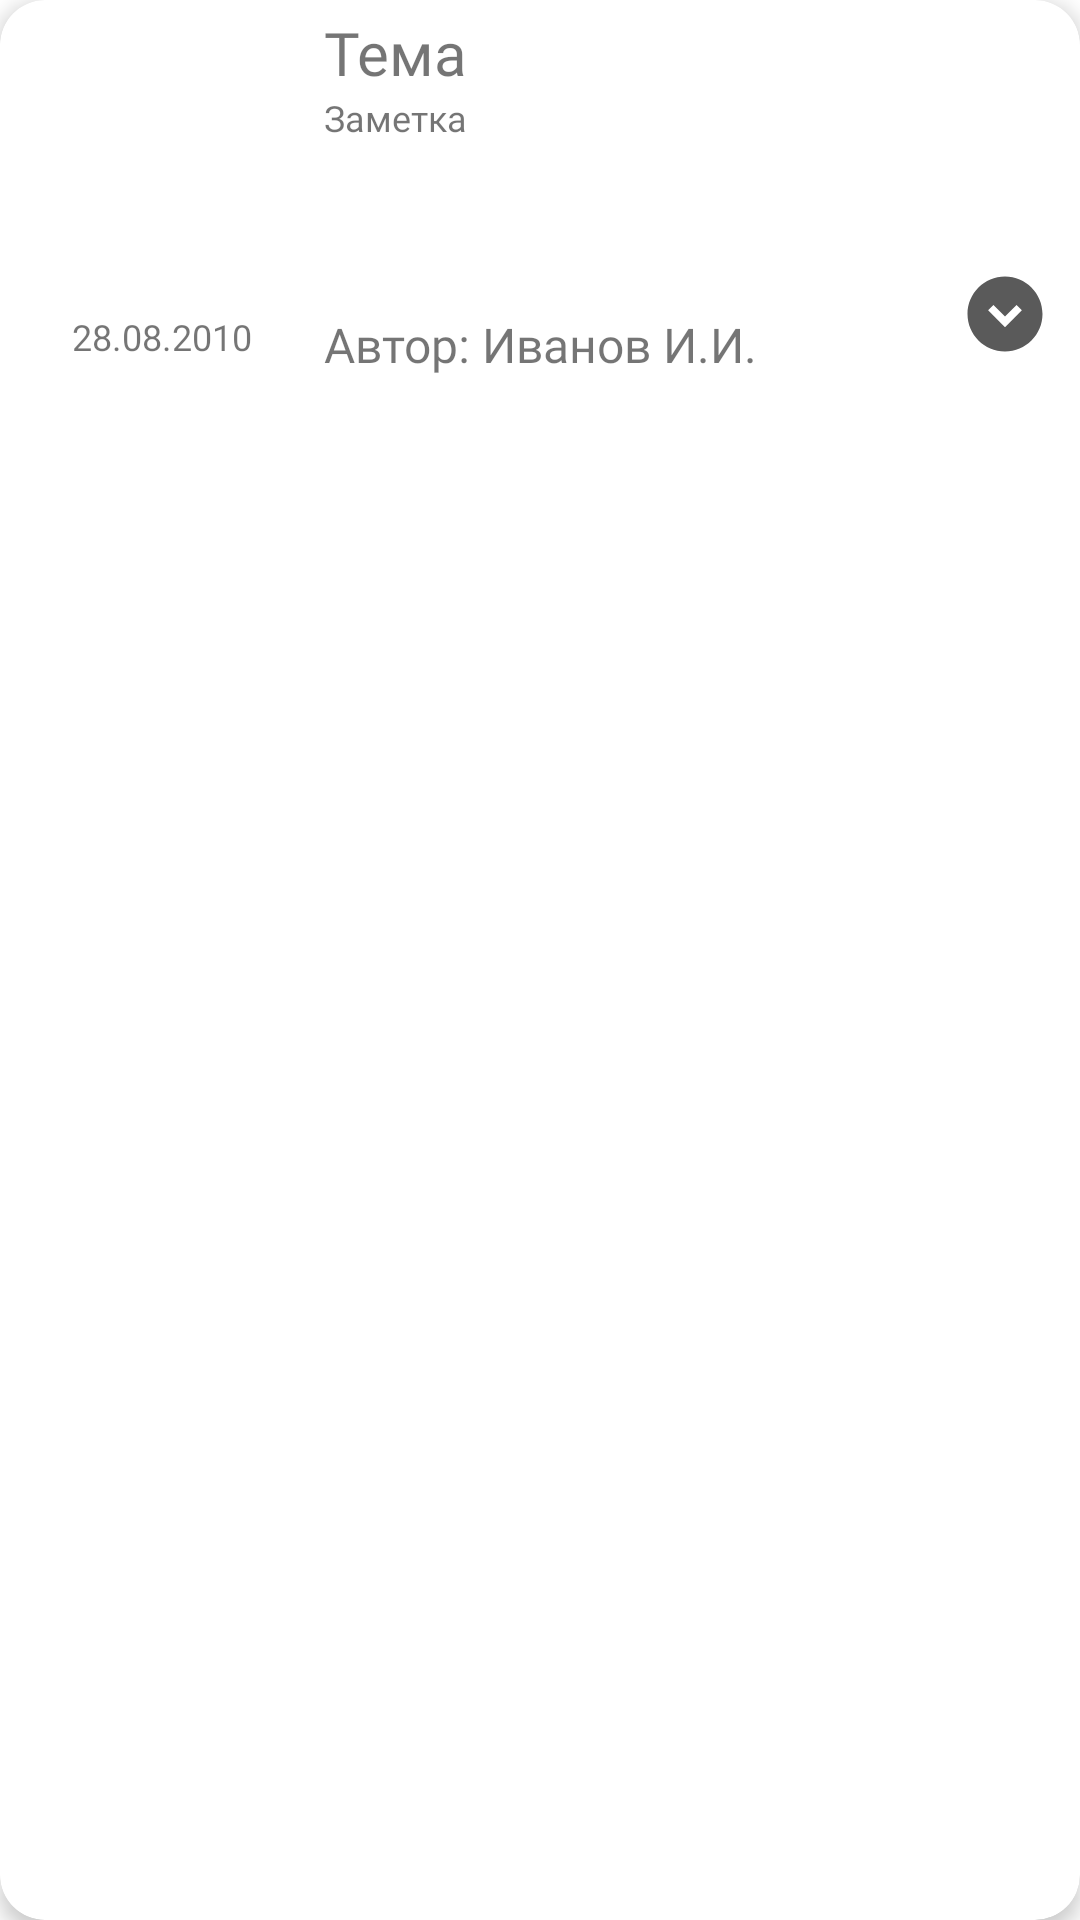

Icon bounding boxes for this 1080×1920 phone screenshot, format (x1, y1, x2, y2):
expand circle down: (967, 276, 1043, 352)
